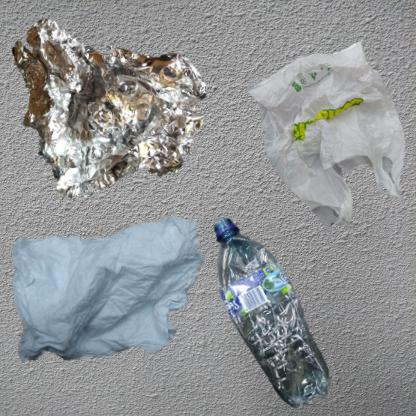aluminio: (10, 10, 213, 203)
bolsa: (213, 10, 416, 262)
botella: (213, 213, 335, 416)
papel: (10, 213, 209, 364)
